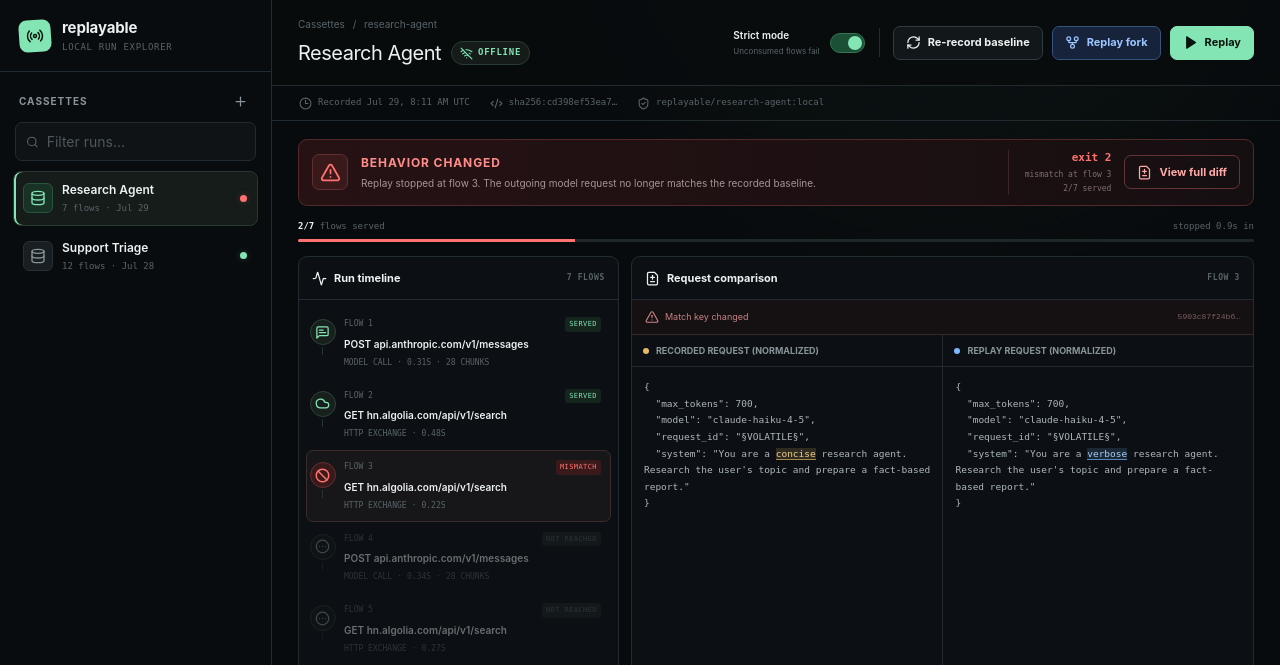
Scenario: Dashboard › does not let a slower prior cassette overwrite the current selection
Step 1. Click the button "Support Triage 12 flows · Jul 28" → (136, 256), box [13,228,258,283]
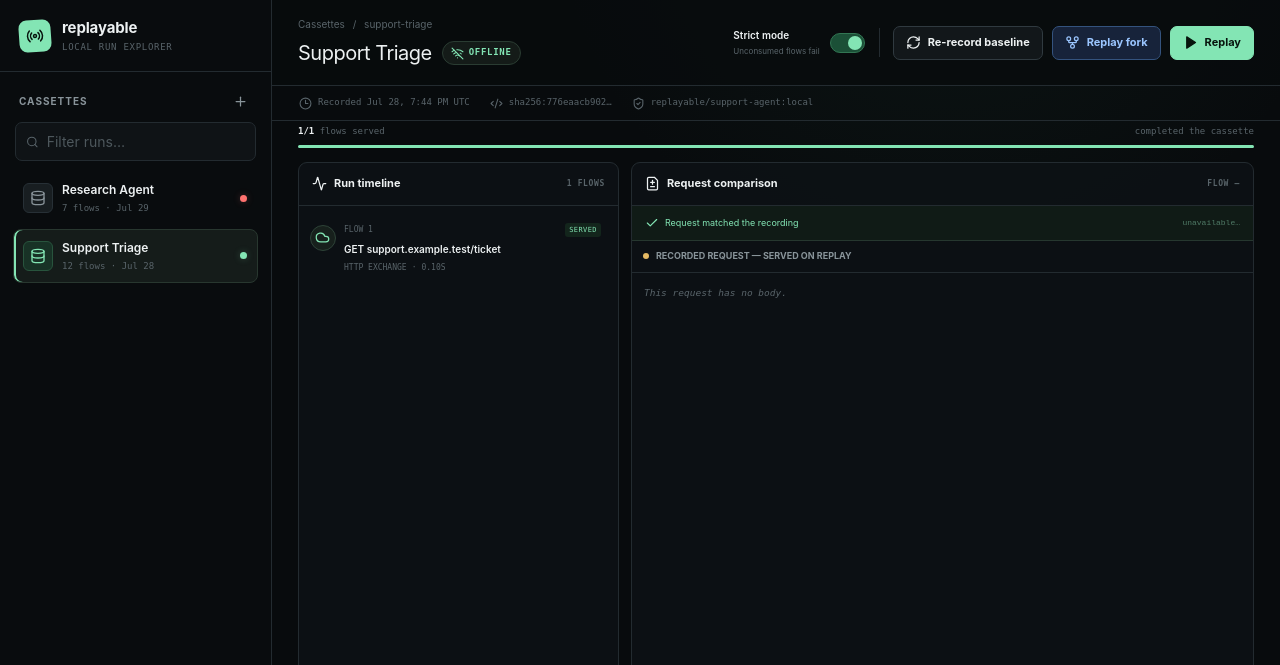
Now the text "GET support.example.test/ticket" is shown, box [344,243,501,255]
